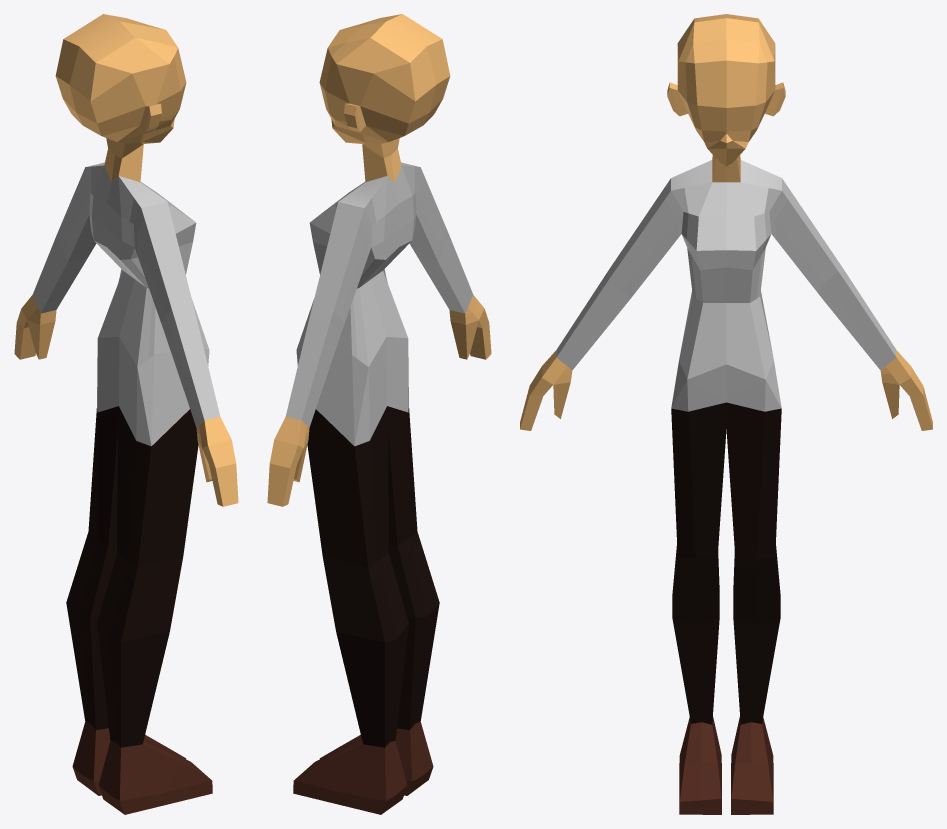
The model's file is CHARACTER.fbx.
3 views of the same model, side by side, from view 1: azimuth 30°, elevation 25°; view 2: azimuth 150°, elevation 25°; view 3: azimuth 270°, elevation 25° (orthographic).
Parts seen in each view (by area): view 1: Box001; view 2: Box001; view 3: Box001.
Boxes of the visible parts, <box> form: Box001: <box>14,14,238,814</box>; Box001: <box>267,14,491,814</box>; Box001: <box>520,14,932,814</box>.
Bounding box in the file's own units: 0.2669 × 1.64 × 0.8024.
